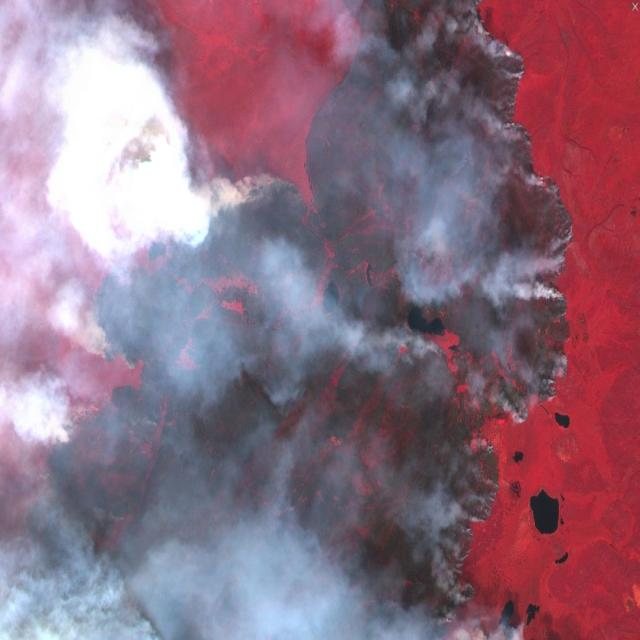fire: (437, 447, 503, 615), (461, 4, 532, 158), (500, 331, 578, 446), (524, 167, 584, 293), (200, 166, 292, 216), (84, 324, 148, 382), (40, 402, 96, 457)
